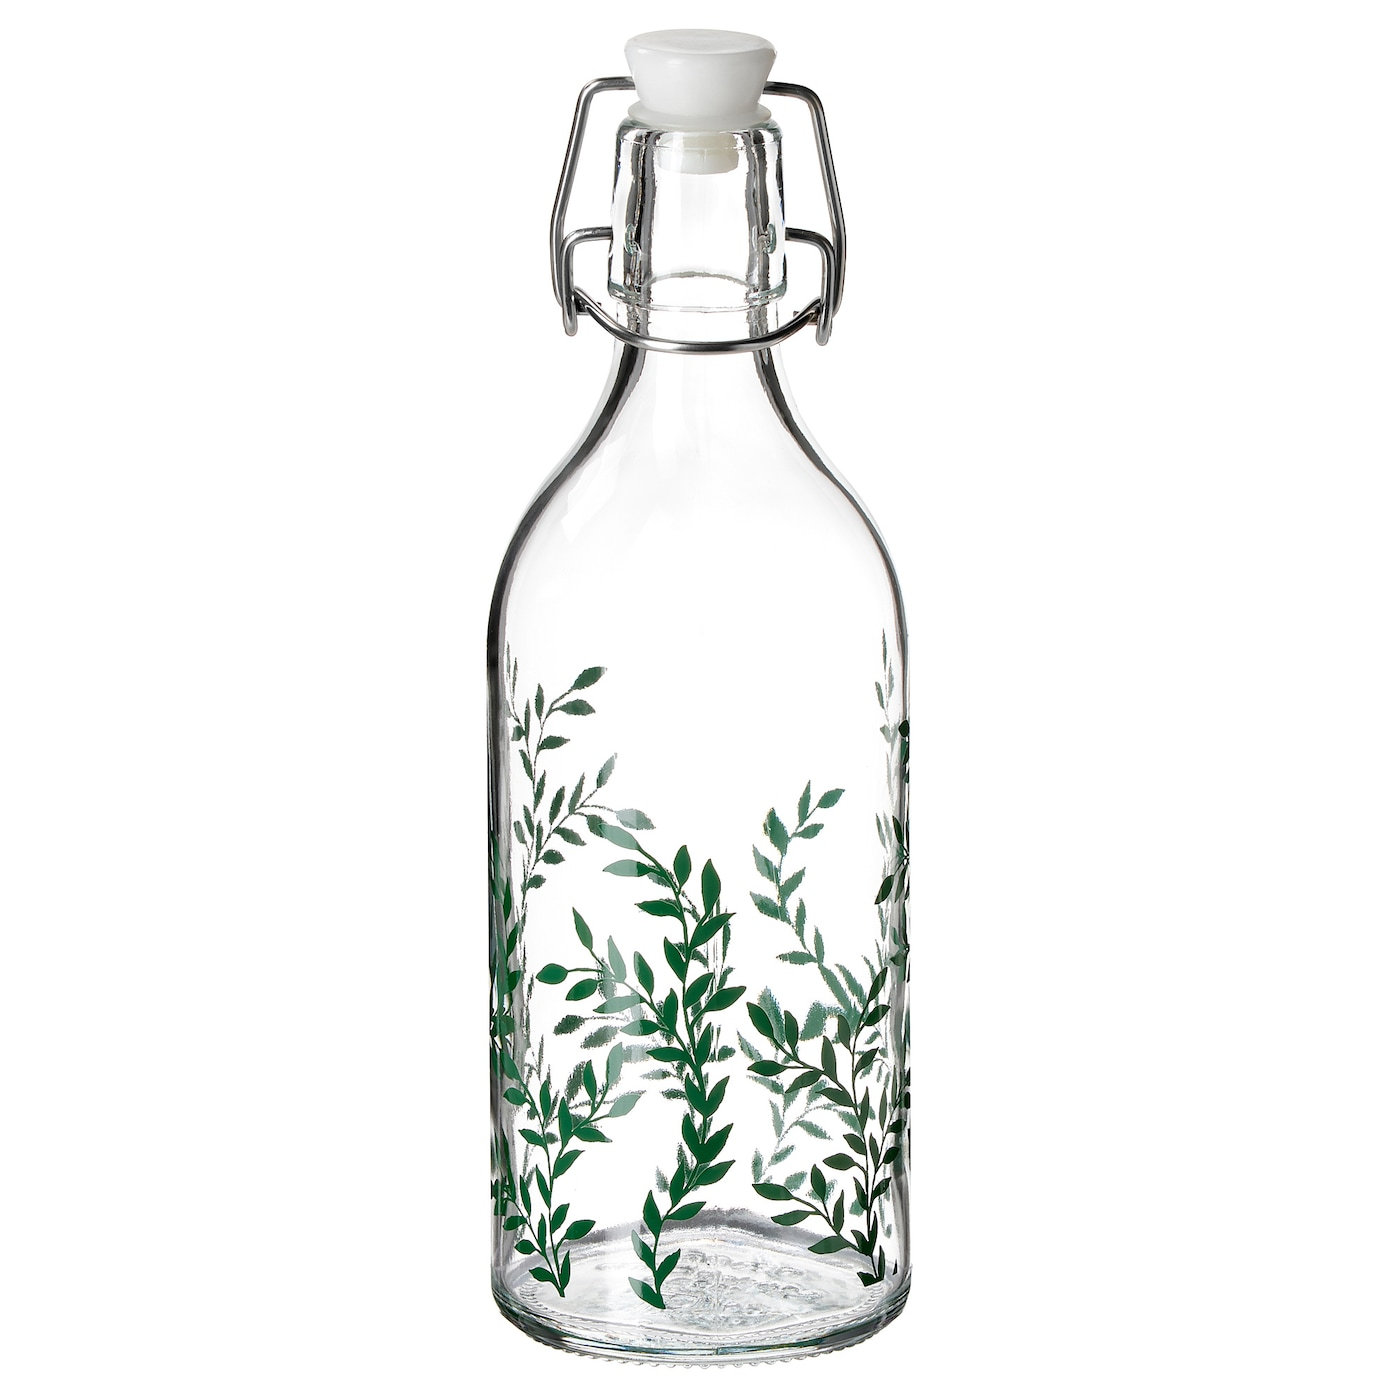glass_bottle: (459, 19, 938, 1377)
